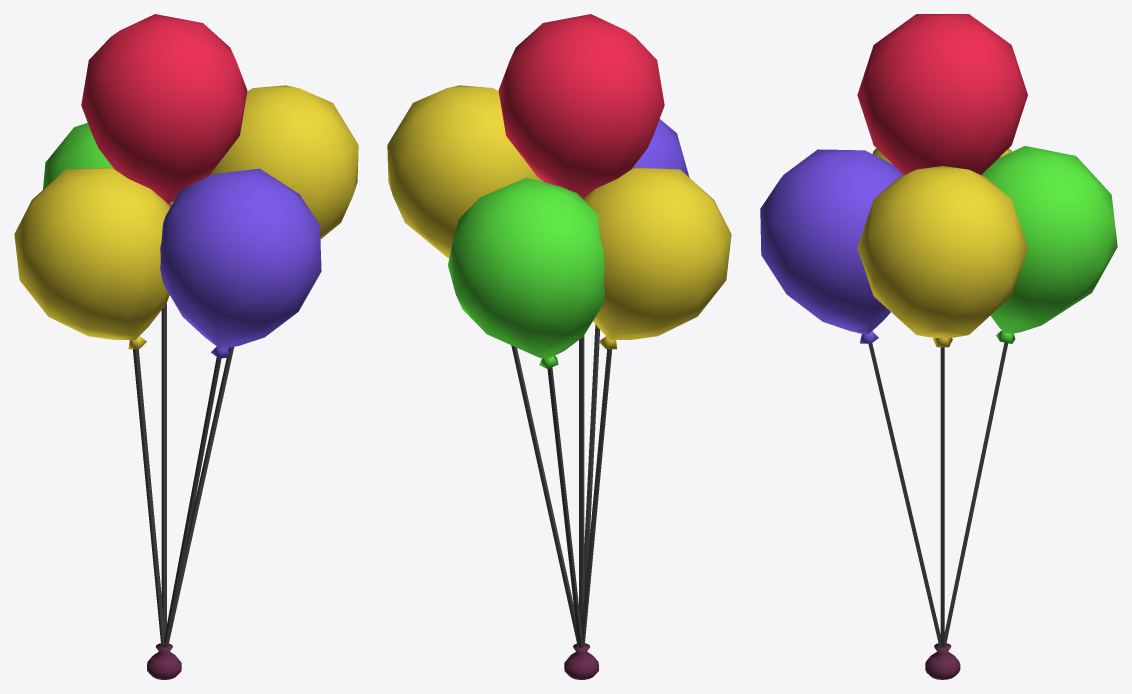
The model's file is balloonBundle.fbx.
3 renders of one model, left to right at view 1: azimuth 30°, elevation 25°; view 2: azimuth 150°, elevation 25°; view 3: azimuth 270°, elevation 25°, orthographic.
Parts seen in each view (by area): view 1: Balloon Bundle; view 2: Balloon Bundle; view 3: Balloon Bundle.
Boxes of the visible parts, x1=… form: Balloon Bundle: x1=14, y1=14, x2=358, y2=679; Balloon Bundle: x1=387, y1=14, x2=731, y2=679; Balloon Bundle: x1=760, y1=14, x2=1117, y2=679.
Bounding box in the file's own units: 107 × 101 × 206.
